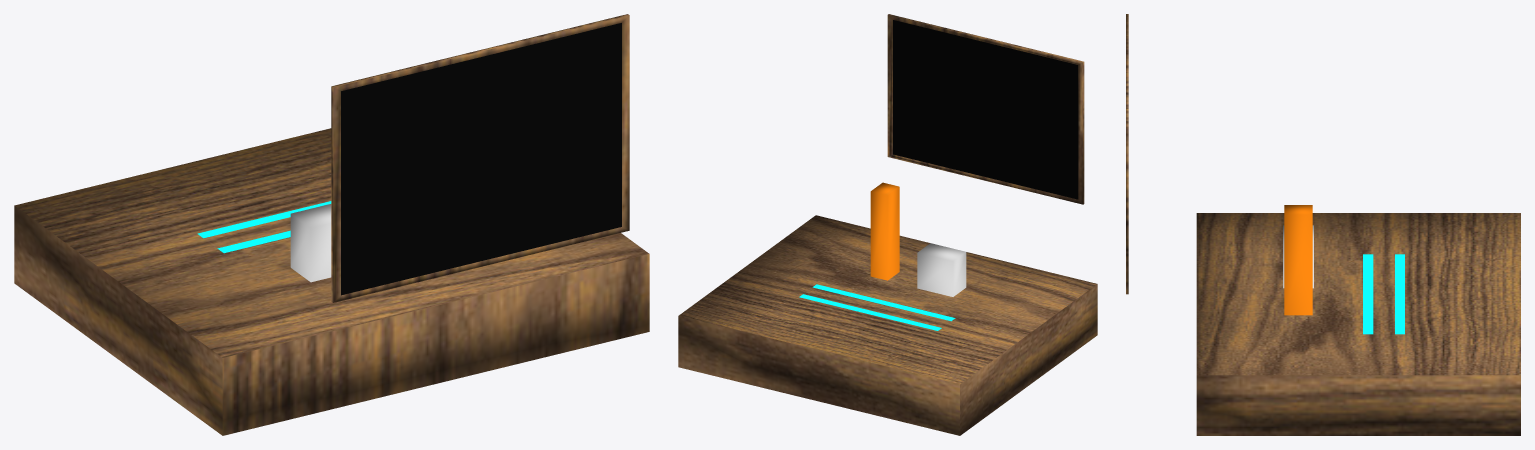
Rendered from test_atlas.glb.
The picture shows the model from 3 angles, left to right: view 1: azimuth 30°, elevation 25°; view 2: azimuth 150°, elevation 25°; view 3: azimuth 270°, elevation 25°; orthographic projection. The views are drawn at different scales.
Visible parts, largest first — view 1: Cube; view 2: Cube; view 3: Cube.
Boxes of the visible parts, left/top/right/bottom form: Cube: left=14, top=14, right=649, bottom=435; Cube: left=678, top=14, right=1097, bottom=435; Cube: left=1126, top=14, right=1520, bottom=435.
Bounding box in the file's own units: 0.0688 × 0.0563 × 0.0708.
Materials: 1 (1 with a texture image).
